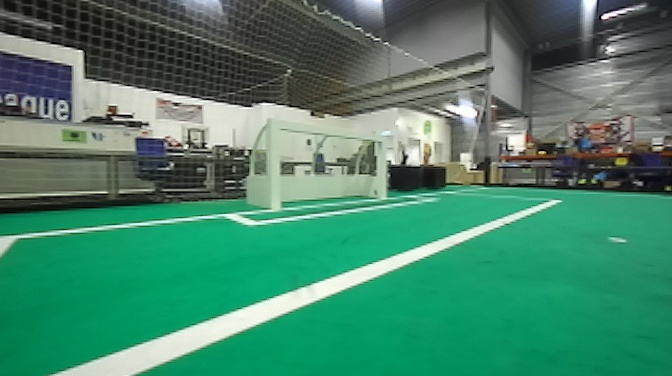goalpost: (266, 119, 285, 209), (370, 133, 389, 204)
